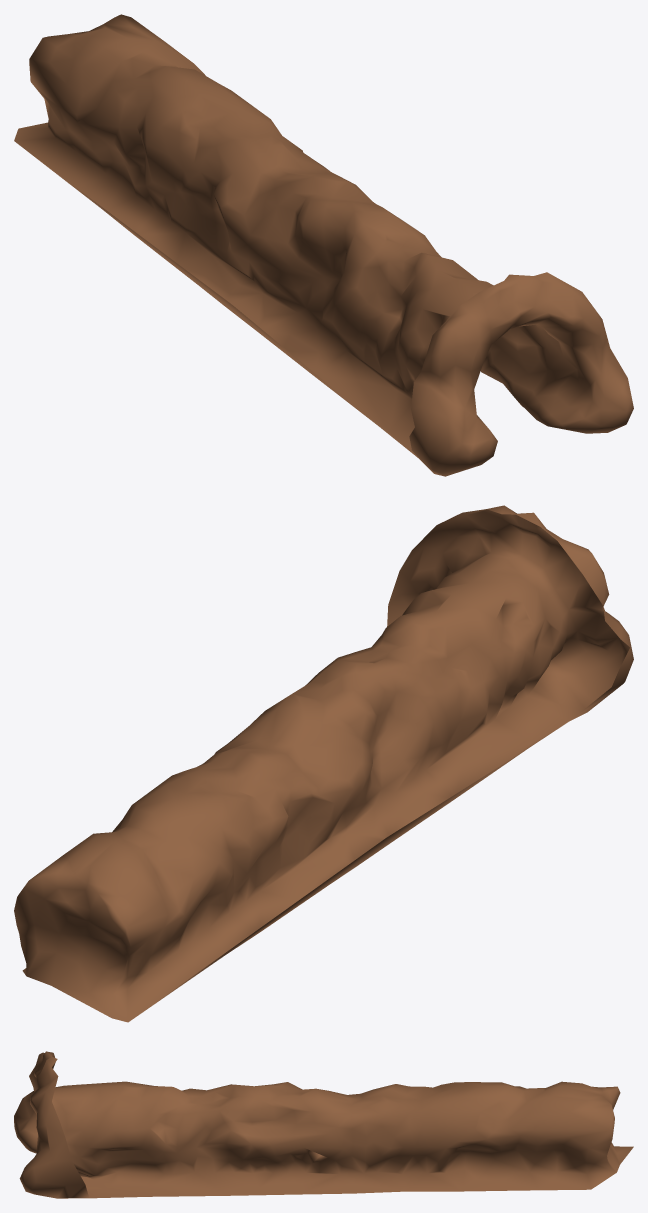
File: Long cave.fbx
3 views of the same model, one above another, from view 1: azimuth 30°, elevation 25°; view 2: azimuth 150°, elevation 25°; view 3: azimuth 270°, elevation 25° (orthographic). The views are drawn at different scales.
Visible parts, largest first — view 1: Mine; view 2: Mine; view 3: Mine.
Part boxes in pixels (<box>): Mine: <box>14,14,633,476</box>; Mine: <box>14,505,633,1022</box>; Mine: <box>14,1051,633,1198</box>.
Size of the model in its own units: 699 by 556 by 2655.
